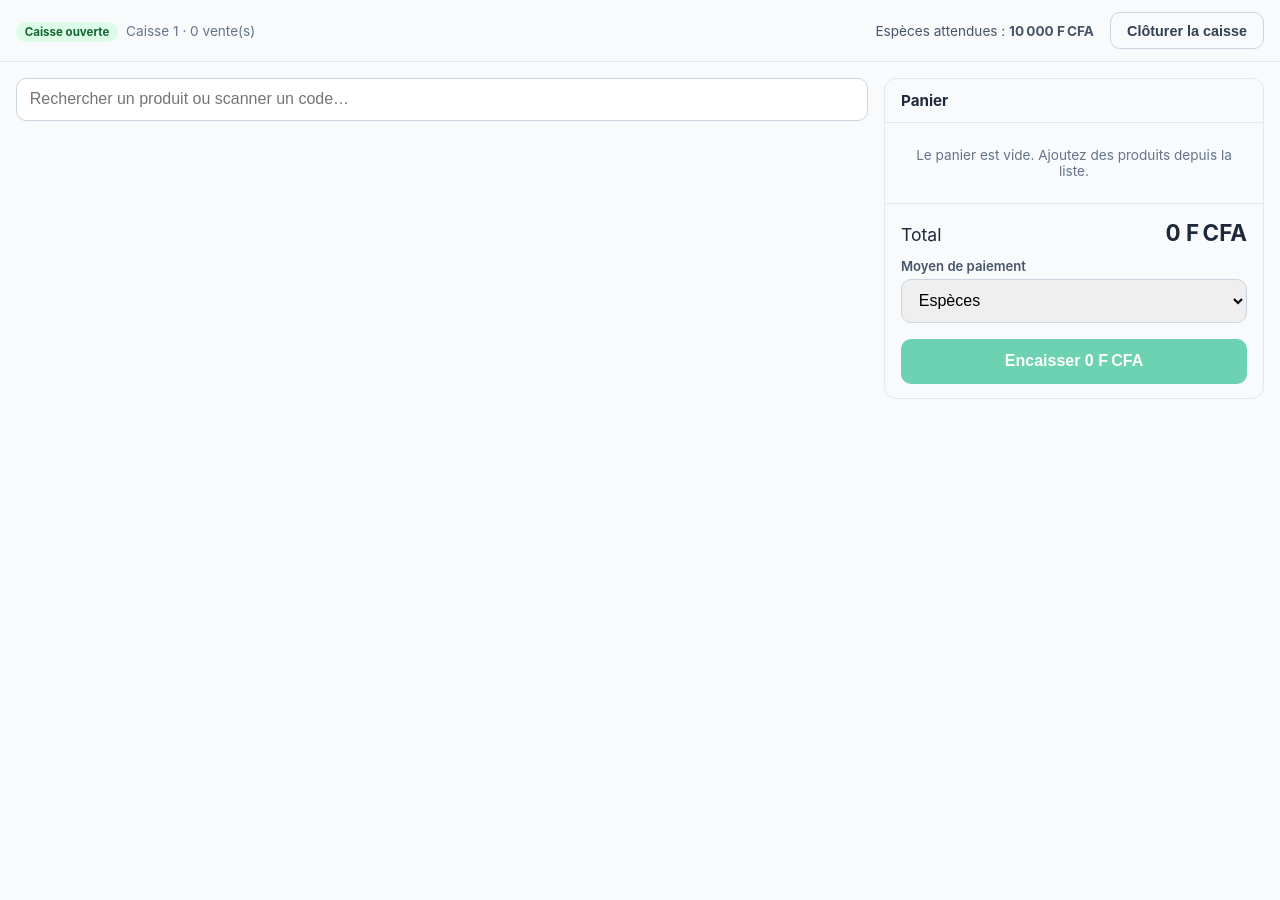
it: PosView › checks out the cart and clears it on success
This screenshot has width=1280, height=900.
In the field with test id "product-search": (442, 99) [16, 78, 868, 121], type "SAV-1"
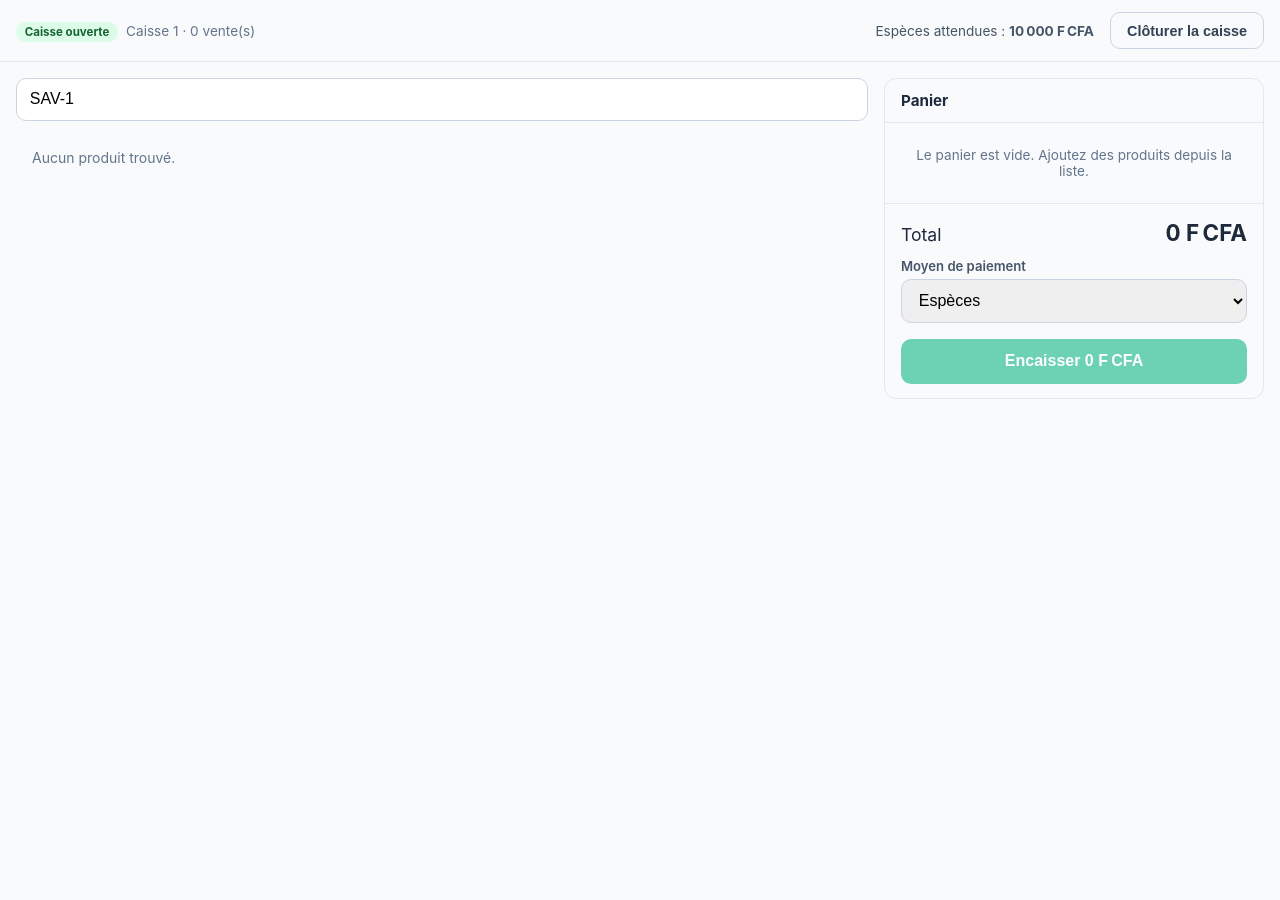
Press Enter in the field with test id "product-search", box [16, 78, 868, 121]
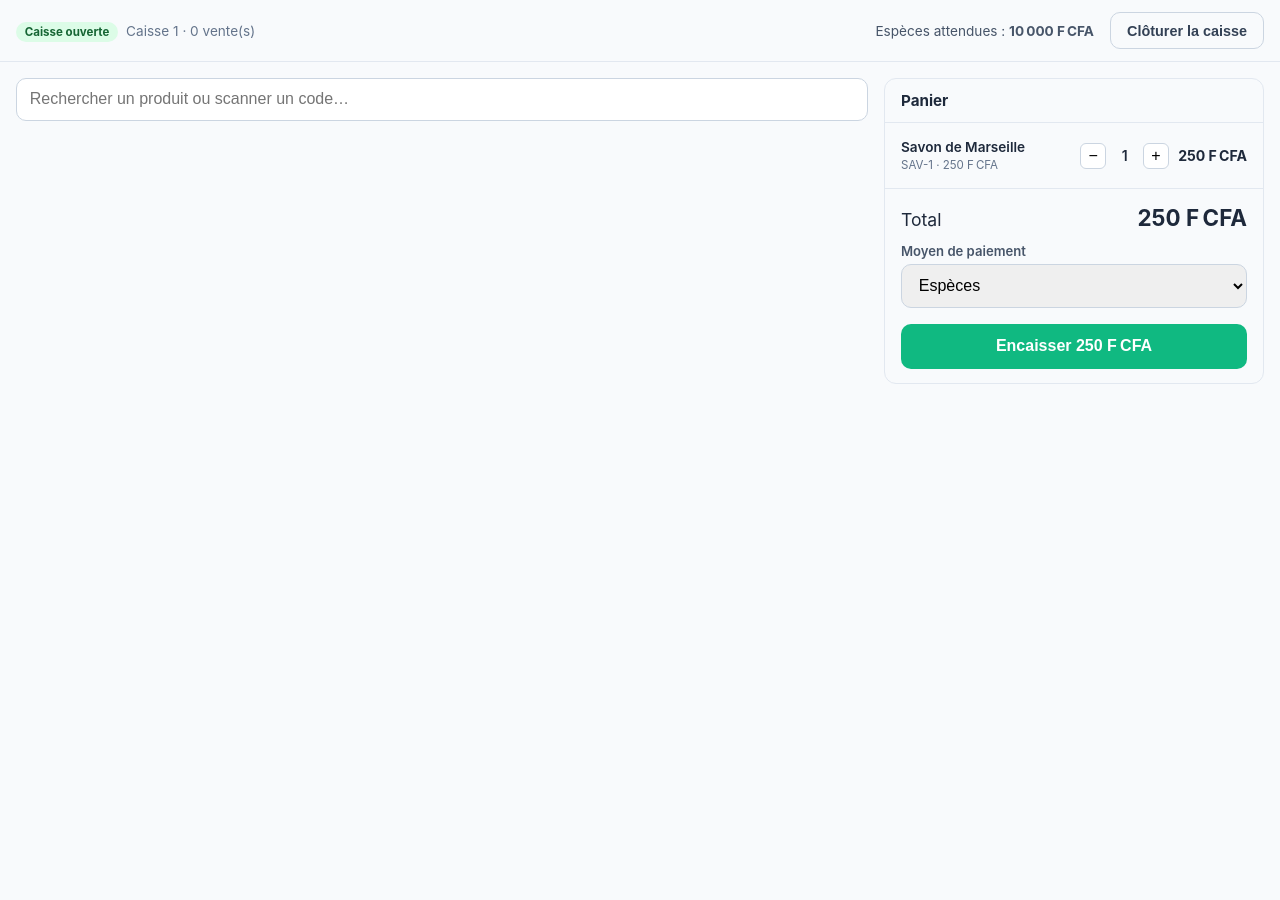
Click the button with test id "checkout": (1074, 346) [901, 324, 1247, 369]
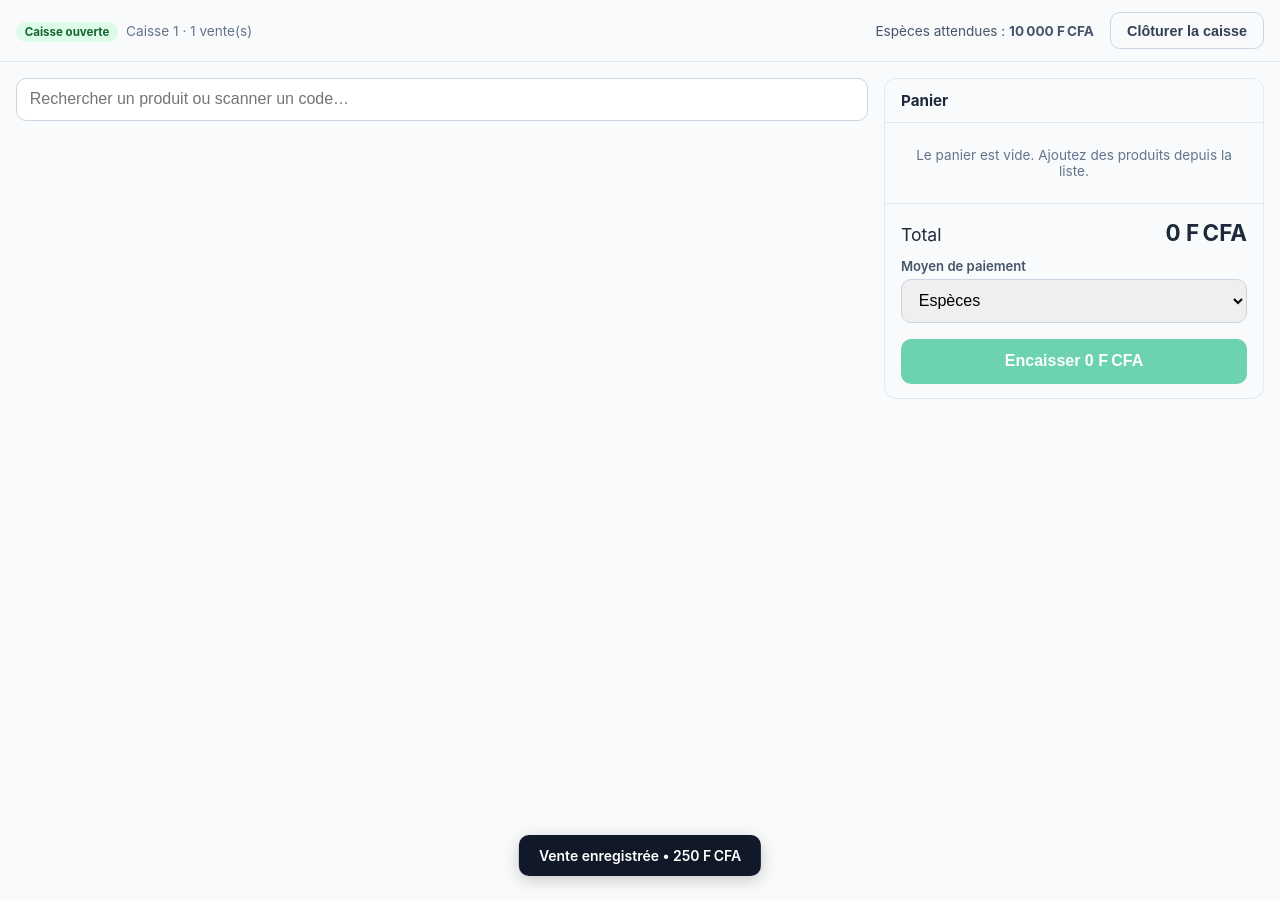
expect the text "Vente enregistrée • 250 F CFA" is shown: met, box [519, 835, 761, 876]
